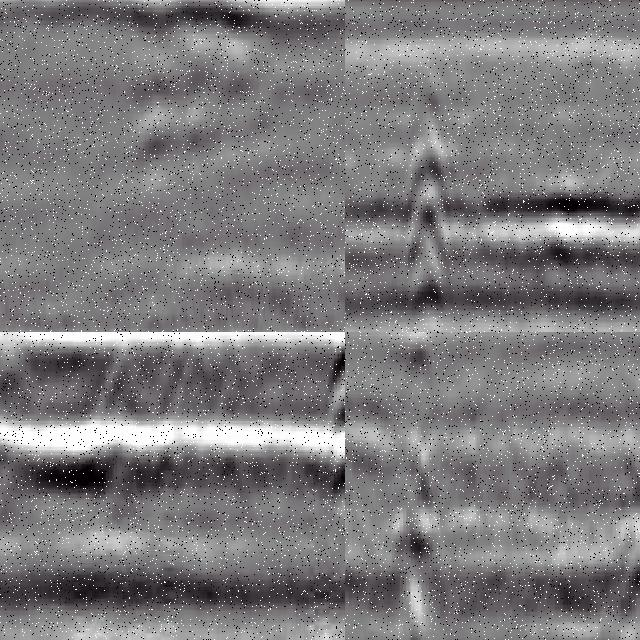crack: (399, 61, 449, 333), (403, 333, 439, 640), (314, 333, 346, 541)
loose: (119, 1, 280, 162)
